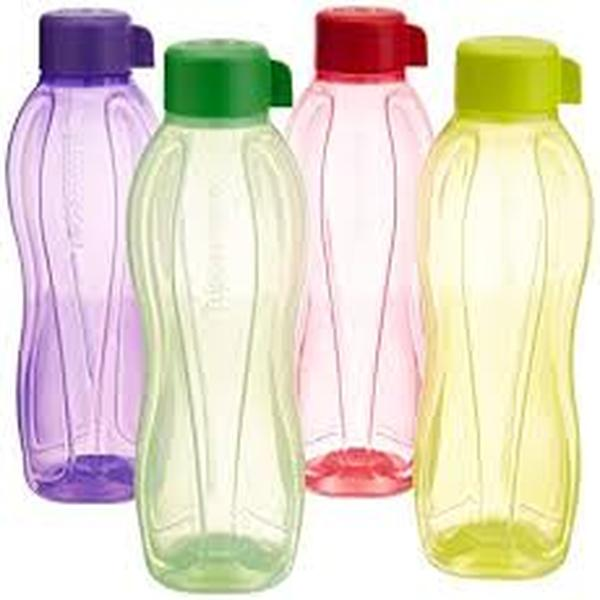tutuma: (429, 20, 597, 588), (1, 3, 161, 563), (283, 3, 422, 534)
